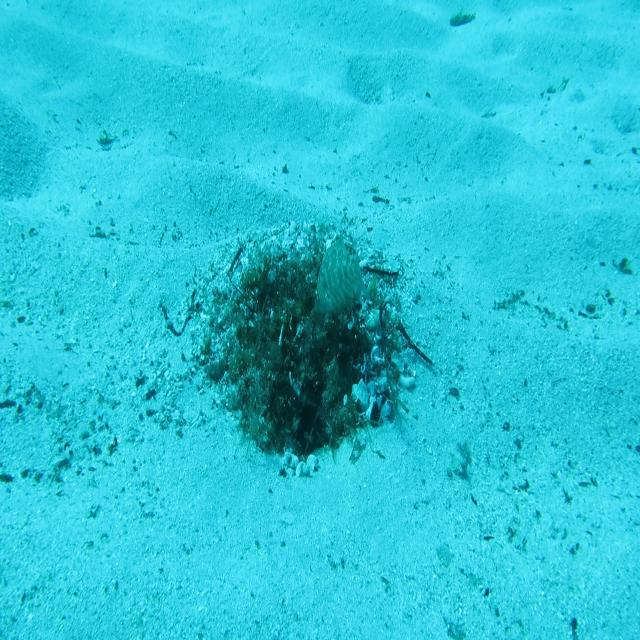core_nest: (270, 280, 321, 318)
nest: (191, 214, 435, 492)
vegetation: (449, 13, 476, 30)
